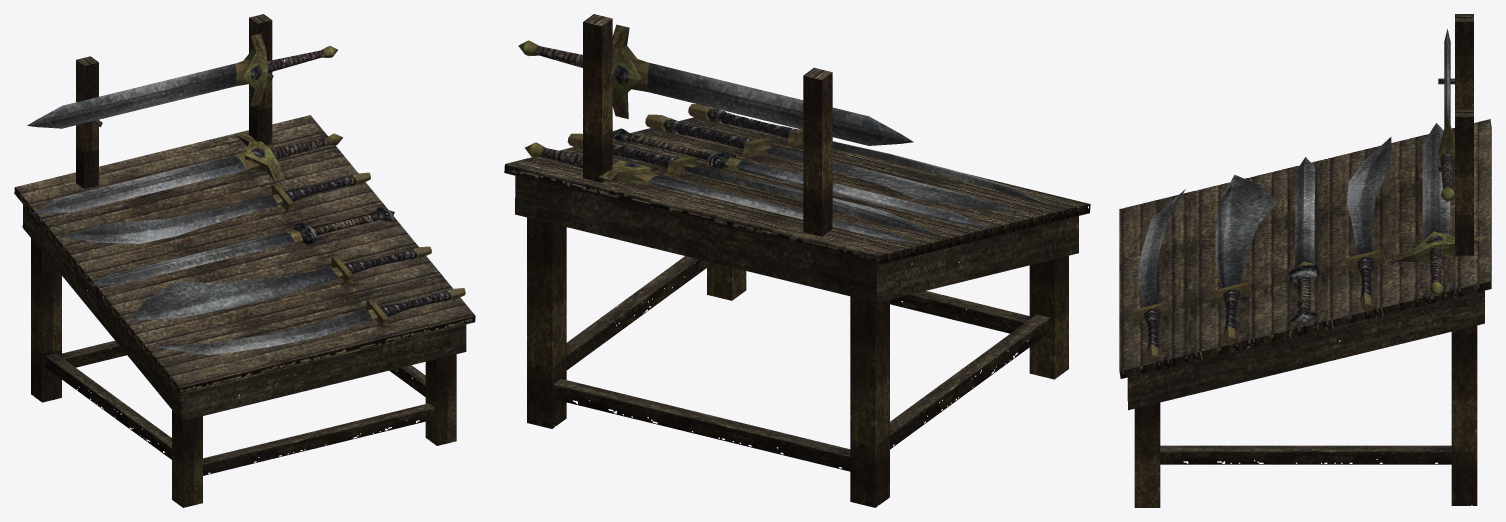
The model's file is ep_b_general_obj_24.fbx.
3 views of the same model, side by side, from view 1: azimuth 30°, elevation 25°; view 2: azimuth 150°, elevation 25°; view 3: azimuth 270°, elevation 25° (orthographic). The views are drawn at different scales.
Visible parts, largest first — view 1: ep_B_general_obj_24; view 2: ep_B_general_obj_24; view 3: ep_B_general_obj_24.
Boxes of the visible parts, bbox=[...] form: ep_B_general_obj_24: bbox=[14, 14, 475, 507]; ep_B_general_obj_24: bbox=[504, 14, 1090, 507]; ep_B_general_obj_24: bbox=[1119, 14, 1491, 507].
Bounding box in the file's own units: 1.45 × 1.46 × 1.34.
